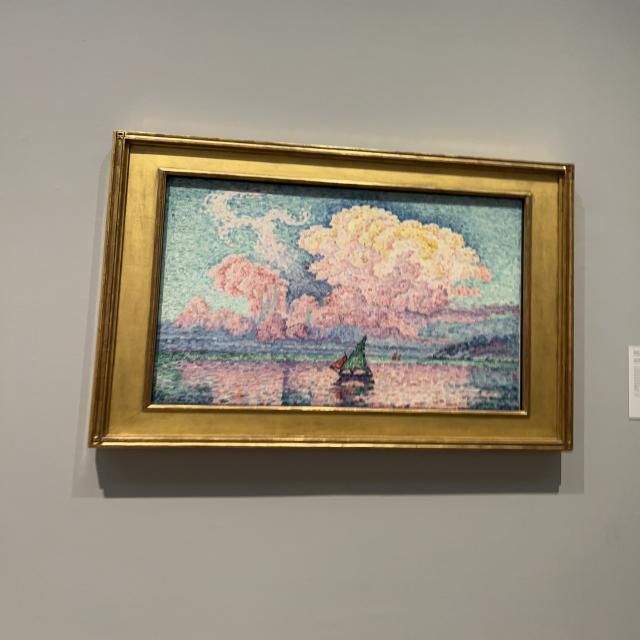sunrise: (157, 190, 521, 408)
